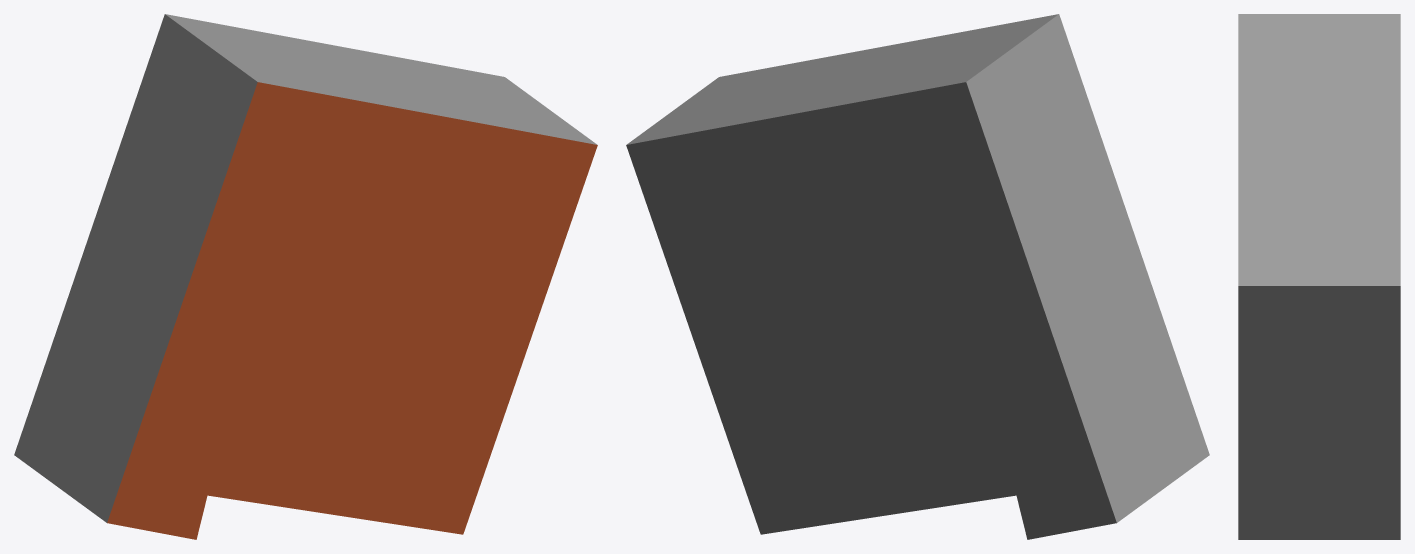
File: construction_2678_assumed_A_Casa_h6m.obj
3 renders of one model, left to right at view 1: azimuth 30°, elevation 25°; view 2: azimuth 150°, elevation 25°; view 3: azimuth 270°, elevation 25°, orthographic. The views are drawn at different scales.
Parts seen in each view (by area): view 1: construction_2678_assumed_A_Casa; view 2: construction_2678_assumed_A_Casa; view 3: construction_2678_assumed_A_Casa.
Part boxes in pixels (x1,y1,x2,y2): construction_2678_assumed_A_Casa: (14,14,597,539); construction_2678_assumed_A_Casa: (626,14,1209,539); construction_2678_assumed_A_Casa: (1238,14,1400,539).
Bounding box in the file's own units: 18.29 × 17.91 × 6.
